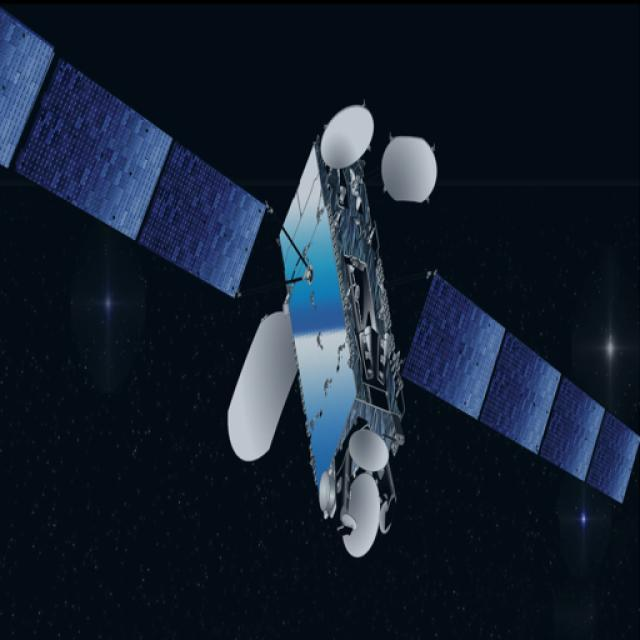sat: (0, 5, 640, 569)
